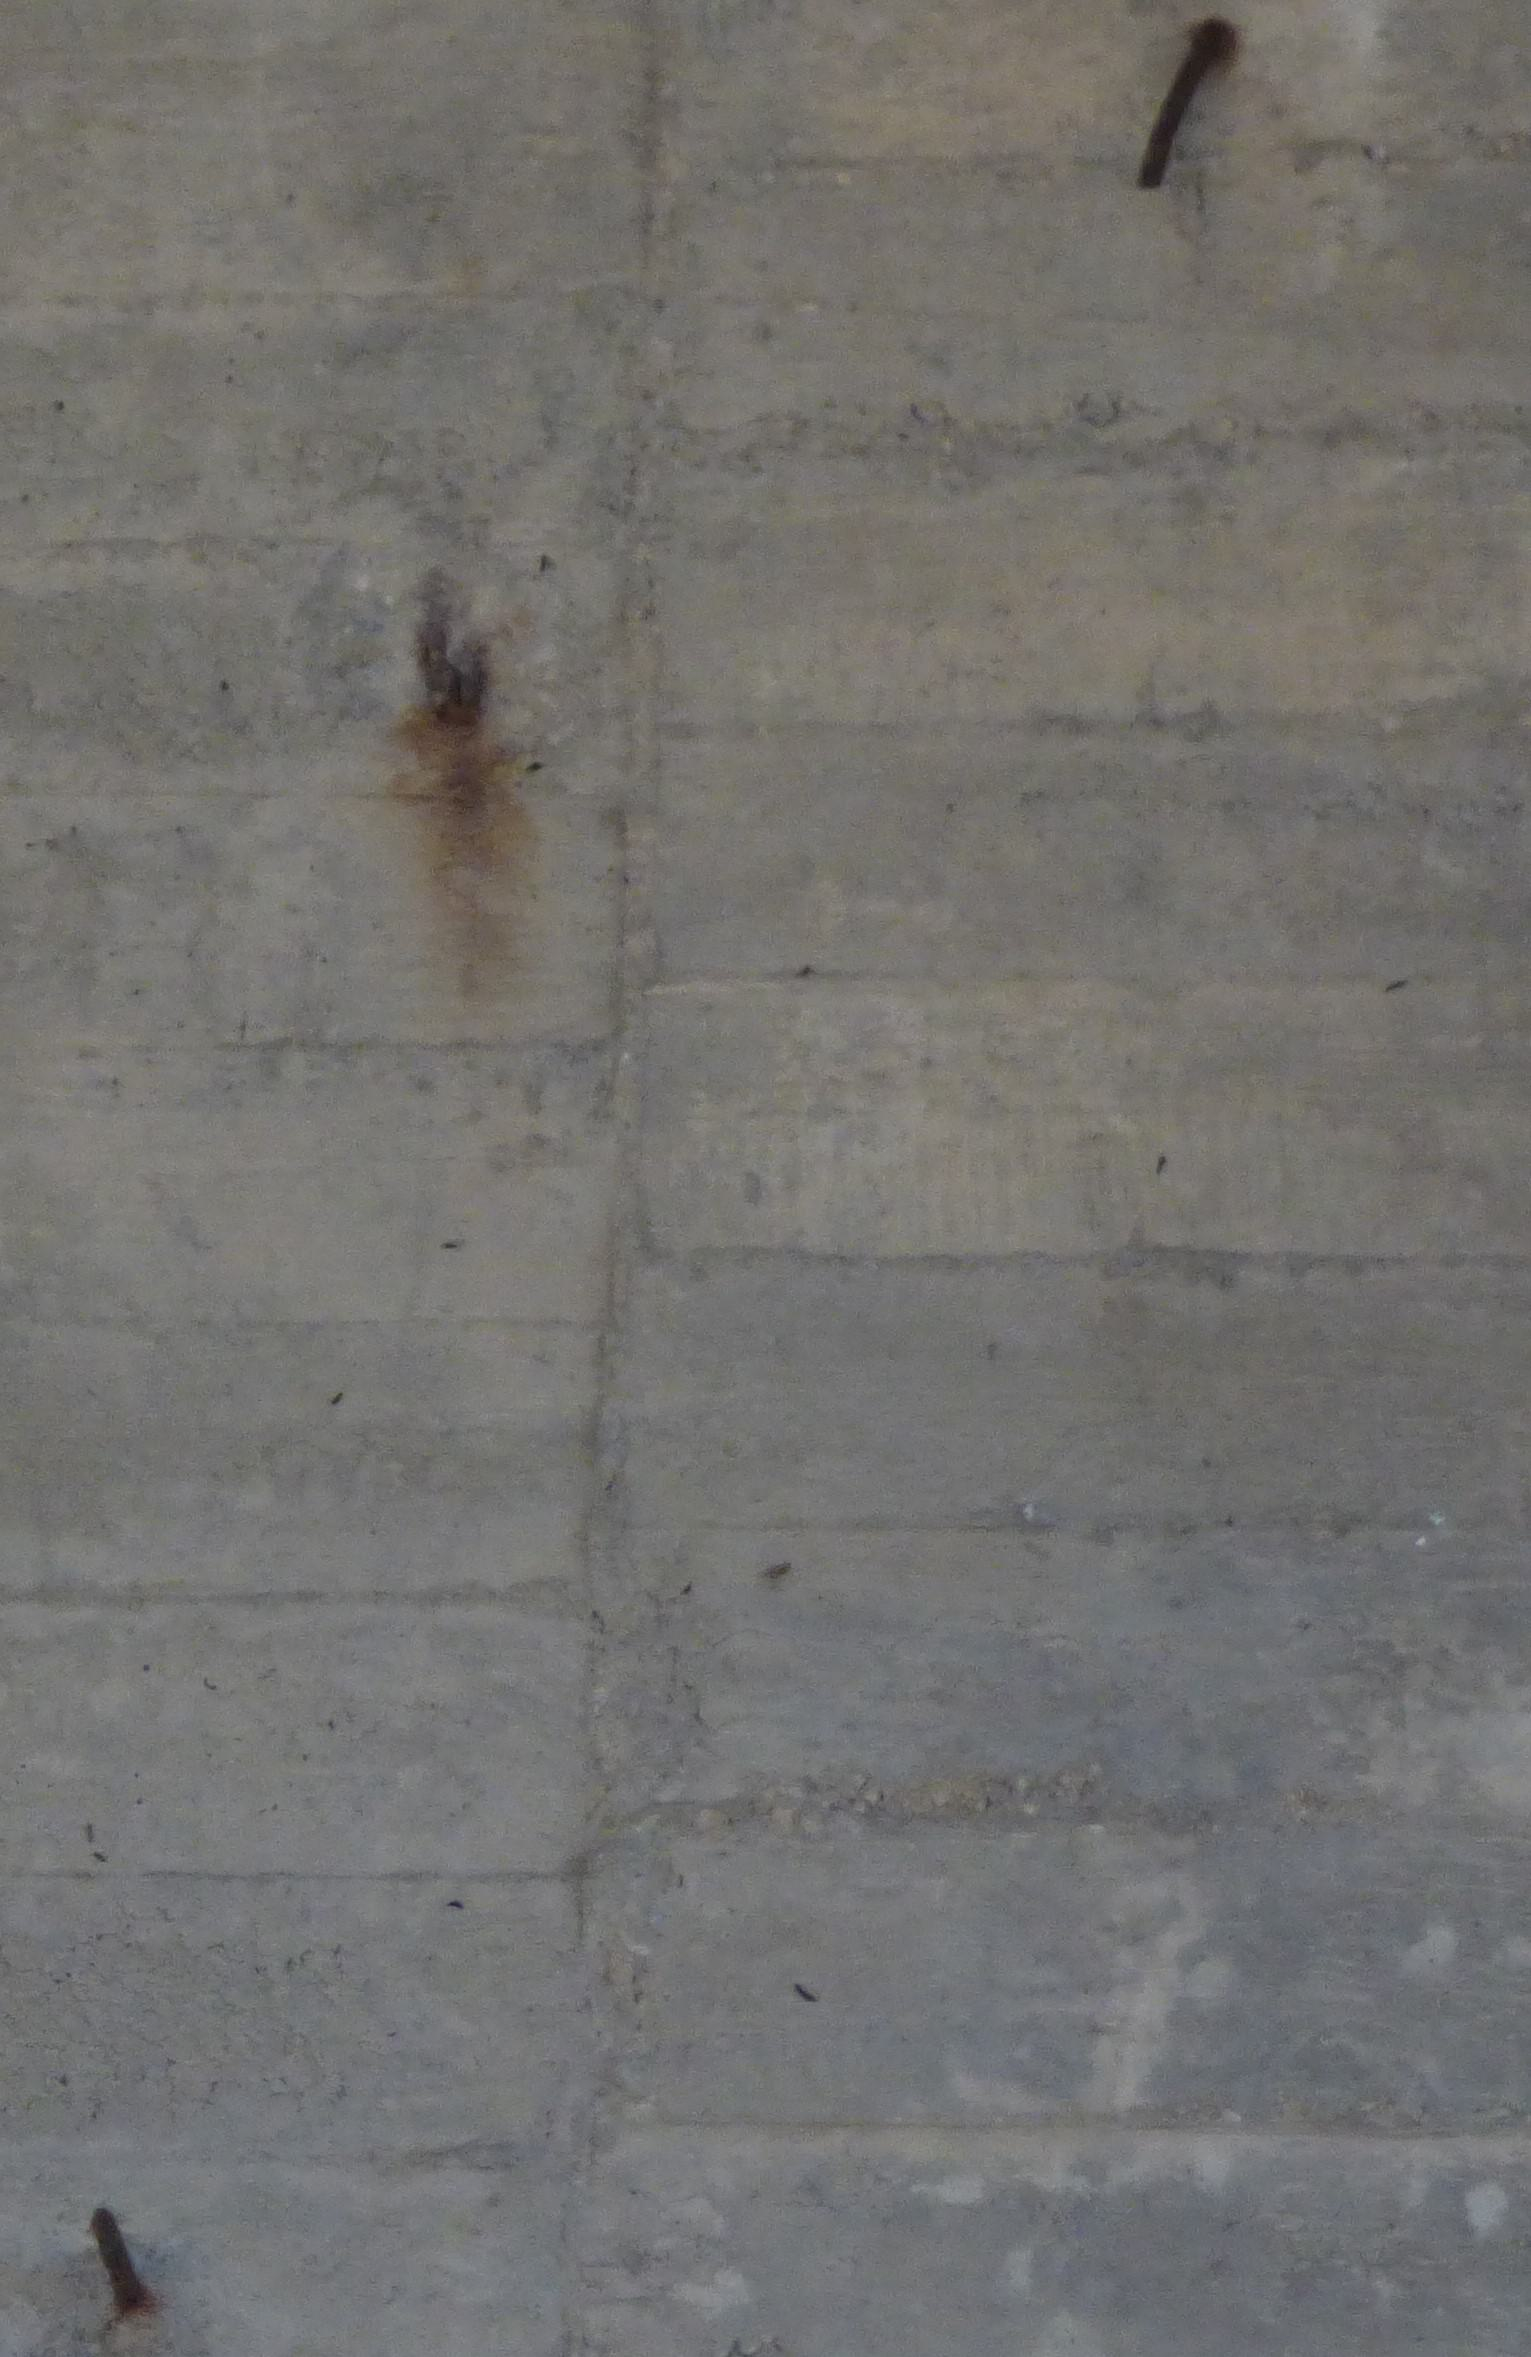Corrosion: (388, 601, 538, 1015)
Exposed reinforcement: (1136, 27, 1220, 191), (91, 2208, 144, 2312)
